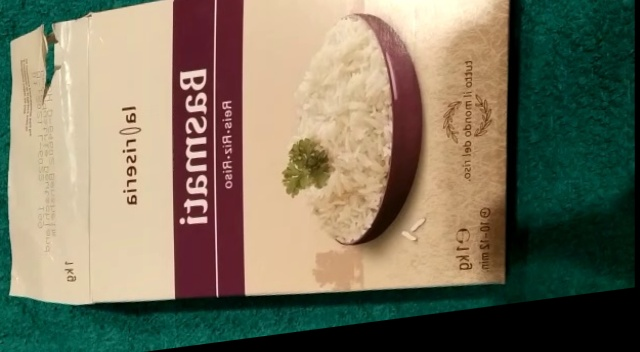basmati_rice: (10, 10, 517, 342)
